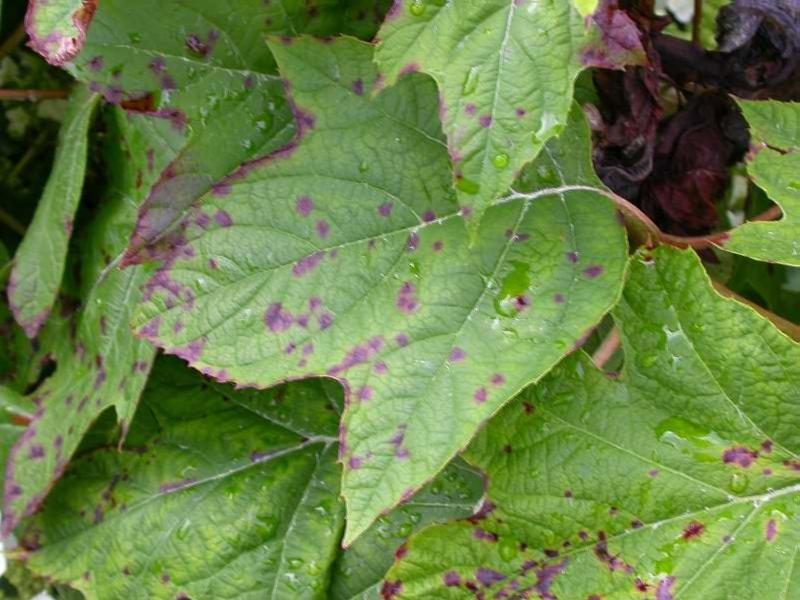Tomato leaf bacterial spot: (127, 131, 618, 549)
